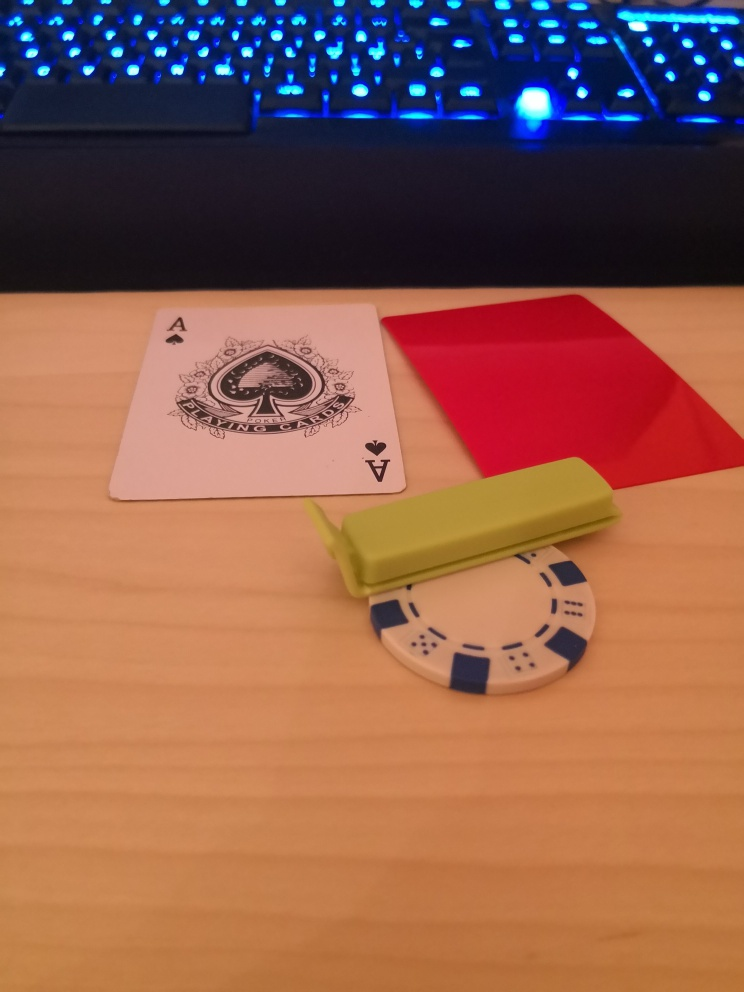ace: (108, 302, 408, 501)
